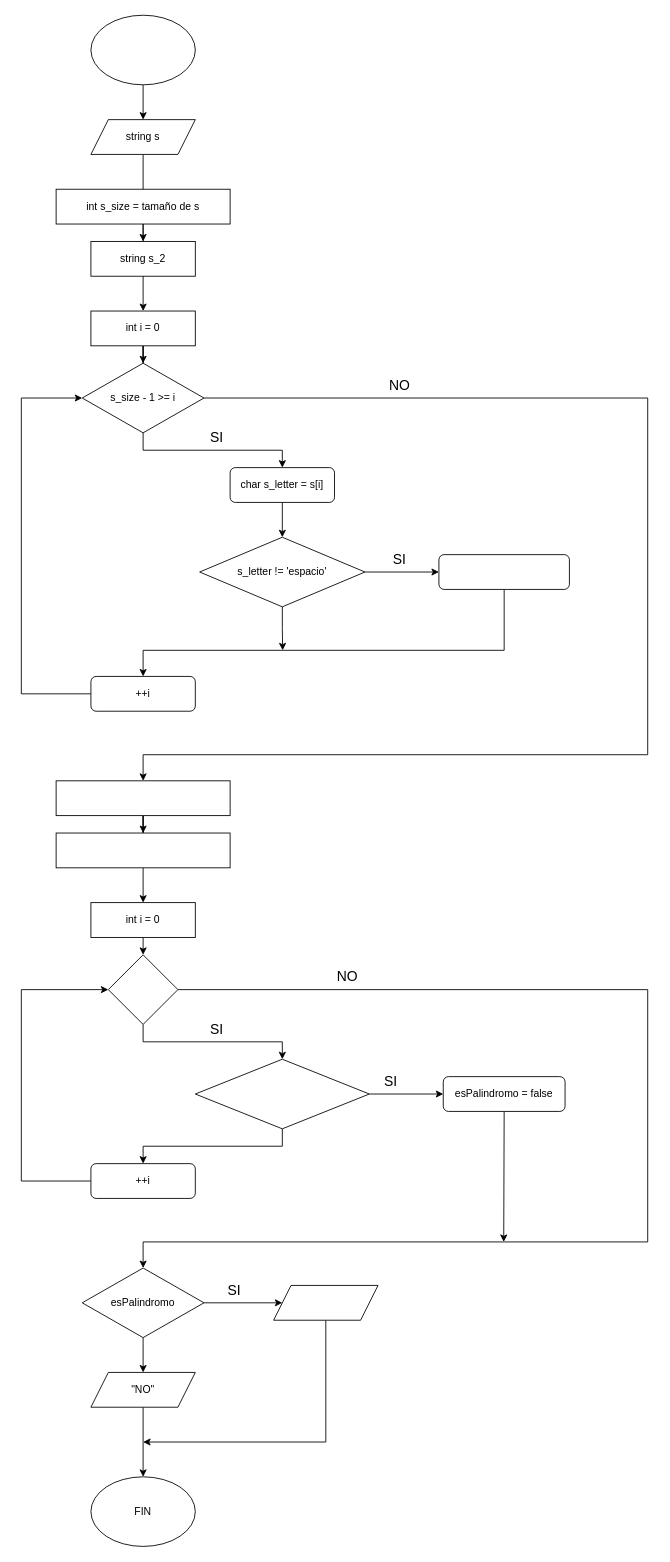
Some shapes in this 670 by 1562 pixel diagram are drawn without their labels. Each missing label, with the box of its shape:
"YES": (273, 1285, 378, 1320)
bool esPalindromo = true: (55, 780, 230, 816)
i < n / 2: (107, 954, 178, 1024)
INICIO: (90, 14, 195, 85)
int n = tamaño de s_2: (55, 832, 230, 868)
s_2 = s_2 + s_letter: (438, 554, 569, 589)
s_2[i] != s_2[n - 1- i]: (194, 1058, 369, 1129)
